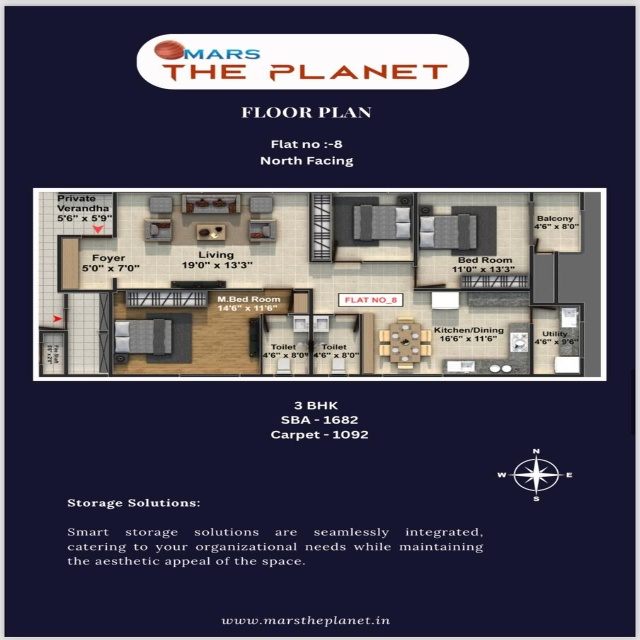door: (415, 266, 446, 289), (263, 288, 294, 310), (64, 308, 93, 330), (334, 243, 364, 263), (262, 314, 290, 333), (81, 223, 113, 238), (531, 306, 557, 324), (335, 314, 359, 333), (533, 238, 556, 253)
